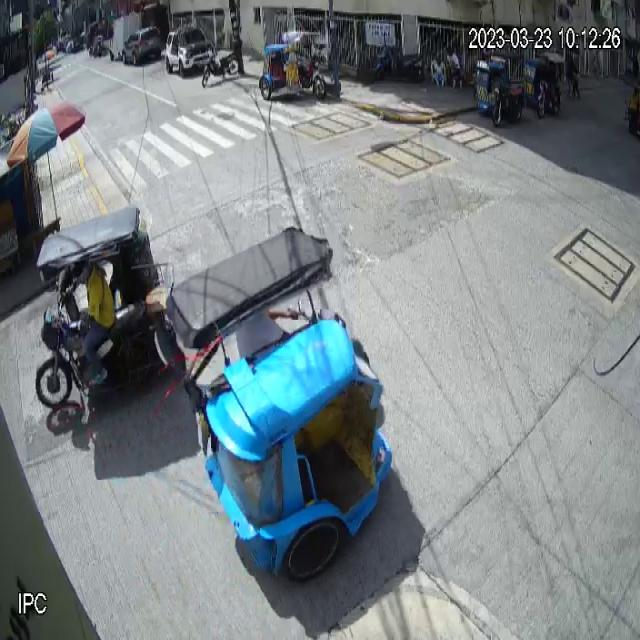Tricycle: (163, 222, 393, 582), (34, 206, 178, 411), (259, 30, 327, 101), (474, 51, 526, 128)
